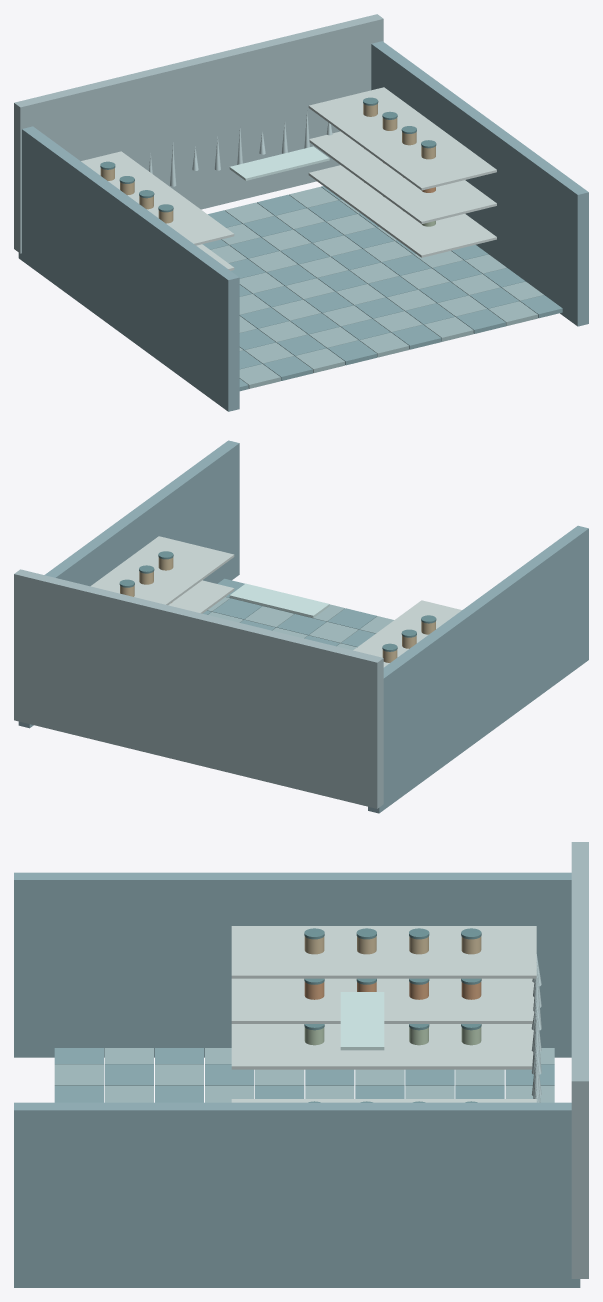
The model's file is zone_03.obj.
3 renders of one model, top to bottom at view 1: azimuth 30°, elevation 25°; view 2: azimuth 150°, elevation 25°; view 3: azimuth 270°, elevation 25°, orthographic. The views are drawn at different scales.
Bounding box in the file's own units: 26 × 10.5 × 26.4.
